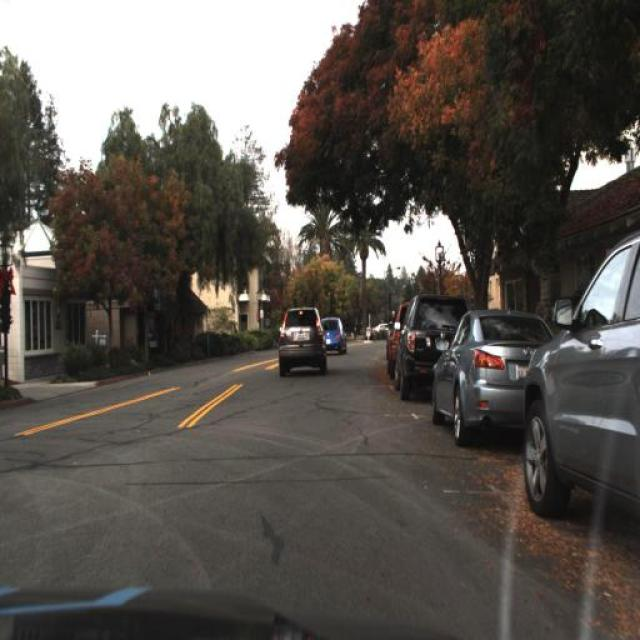car: (520, 227, 640, 536), (428, 304, 556, 446), (392, 290, 472, 399), (275, 302, 330, 378), (316, 316, 349, 356)
